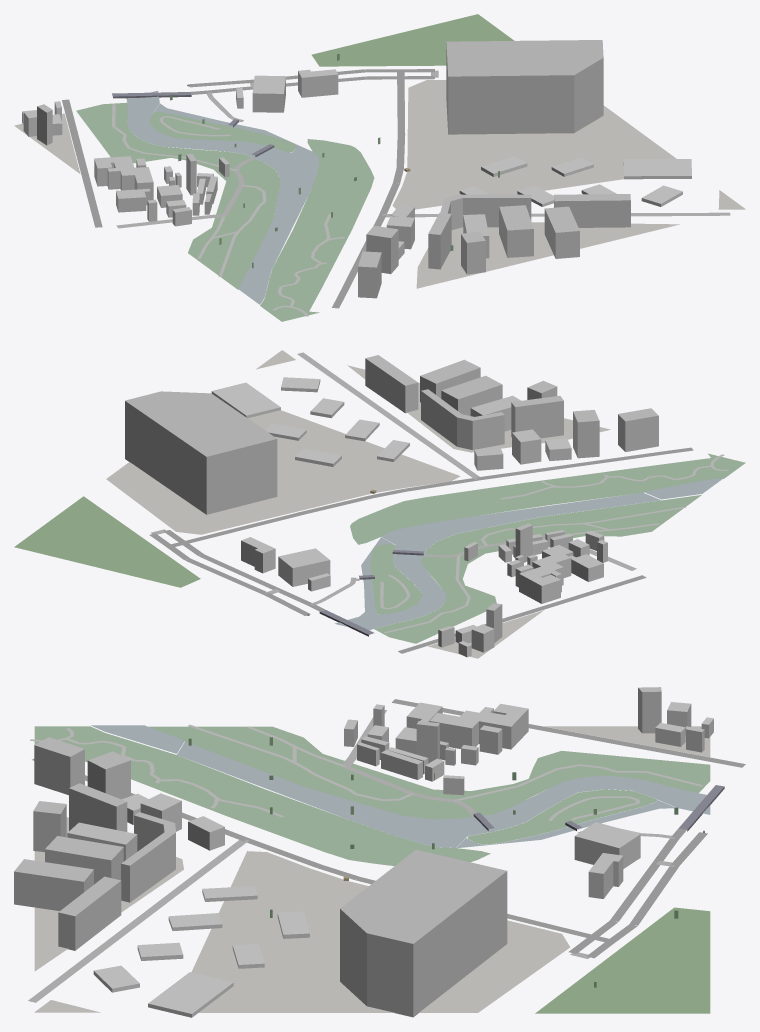
The picture shows the model from 3 angles, top to bottom: view 1: azimuth 30°, elevation 25°; view 2: azimuth 150°, elevation 25°; view 3: azimuth 270°, elevation 25°; orthographic projection. The views are drawn at different scales.
Bounding box in the file's own units: 556 × 61.07 × 542.
